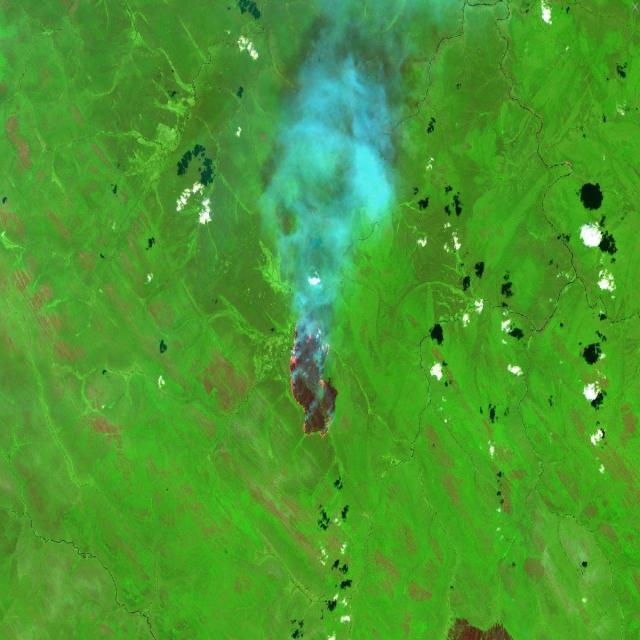fire: (284, 313, 342, 448)
